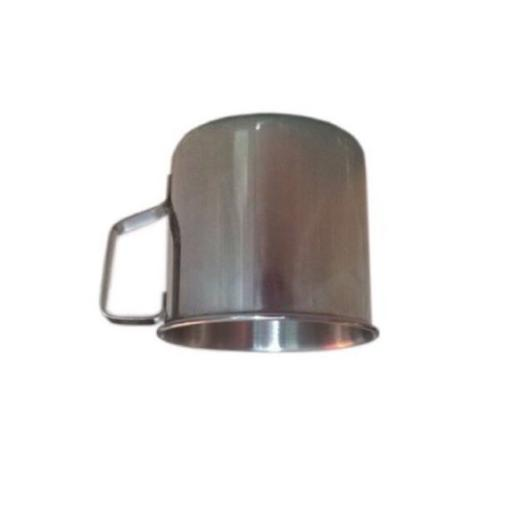cup: (100, 116, 377, 352)
